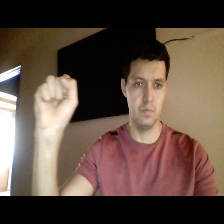9D: (30, 71, 80, 134)
